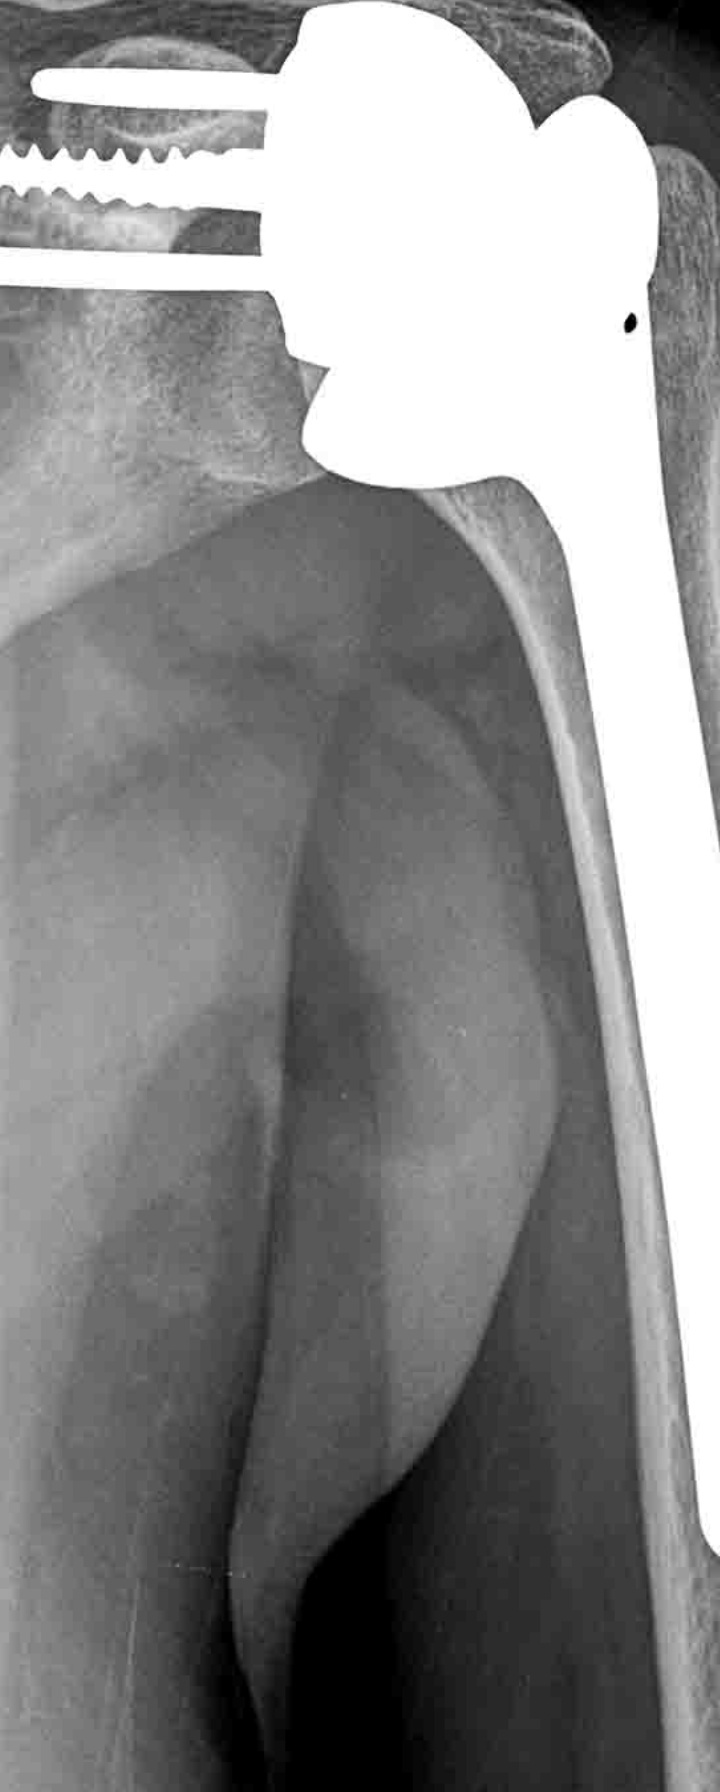Shoulder-Reverse-DJO: (1, 1, 720, 1573)
